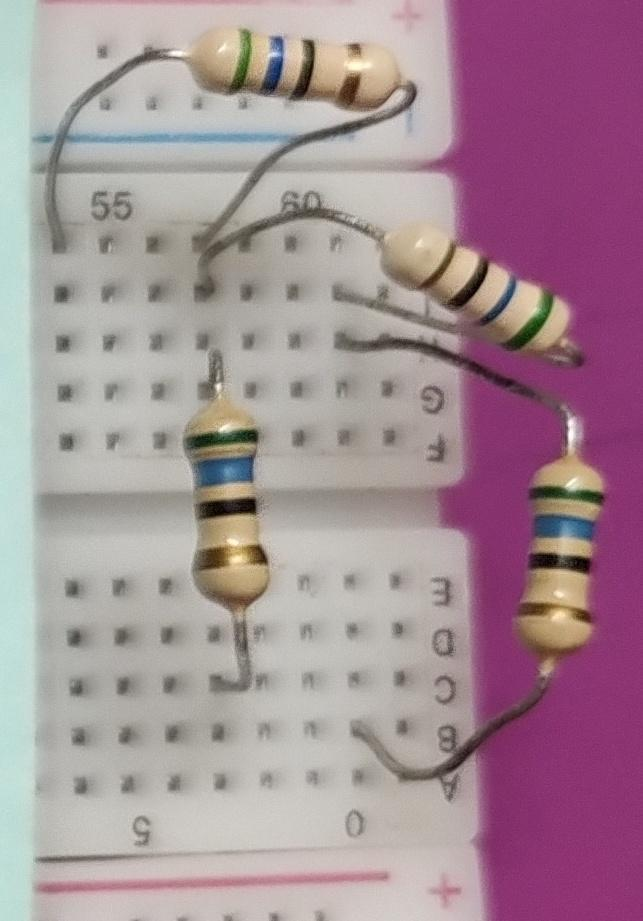resistor: (372, 203, 590, 365), (170, 385, 298, 633), (178, 15, 418, 128), (508, 443, 608, 668)
